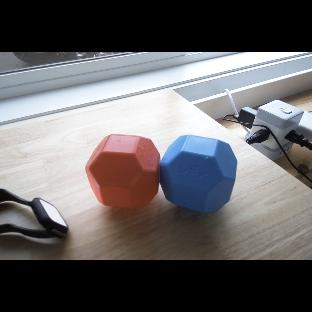V5_BLUE: (165, 134, 238, 217)
V5_RED: (86, 133, 162, 211)
